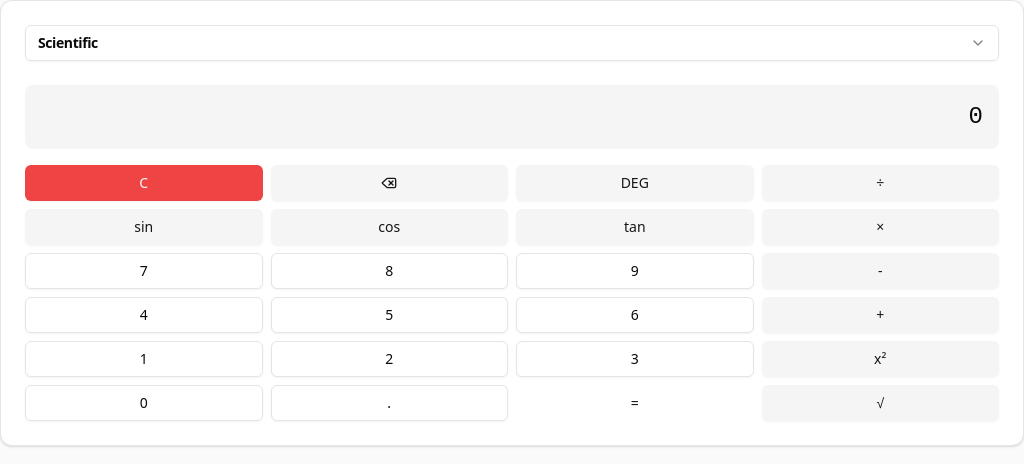
it: Calculator › handles degrees and radians
Step 1. Click the button "DEG" → (635, 183), box top-left (516, 165), bottom-right (754, 201)
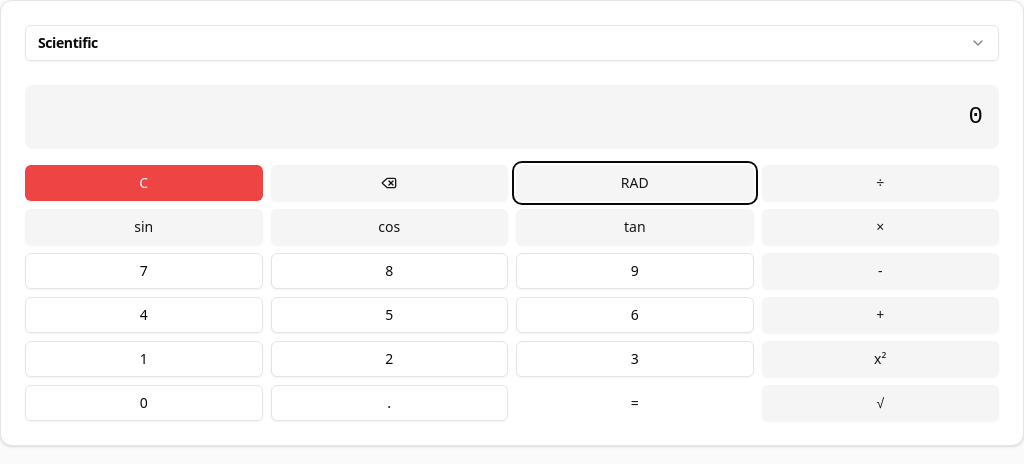
Expected: the button named "DEG" reads "RAD"
Step 2. Click the button named "DEG" → (635, 183), box top-left (516, 165), bottom-right (754, 201)
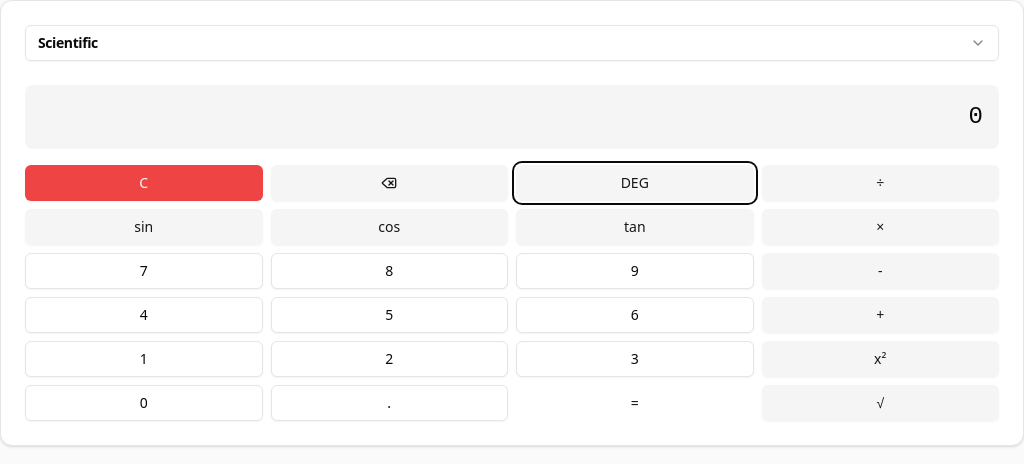
Expected: the button "DEG" is shown, top-left (516, 165), bottom-right (754, 201)
